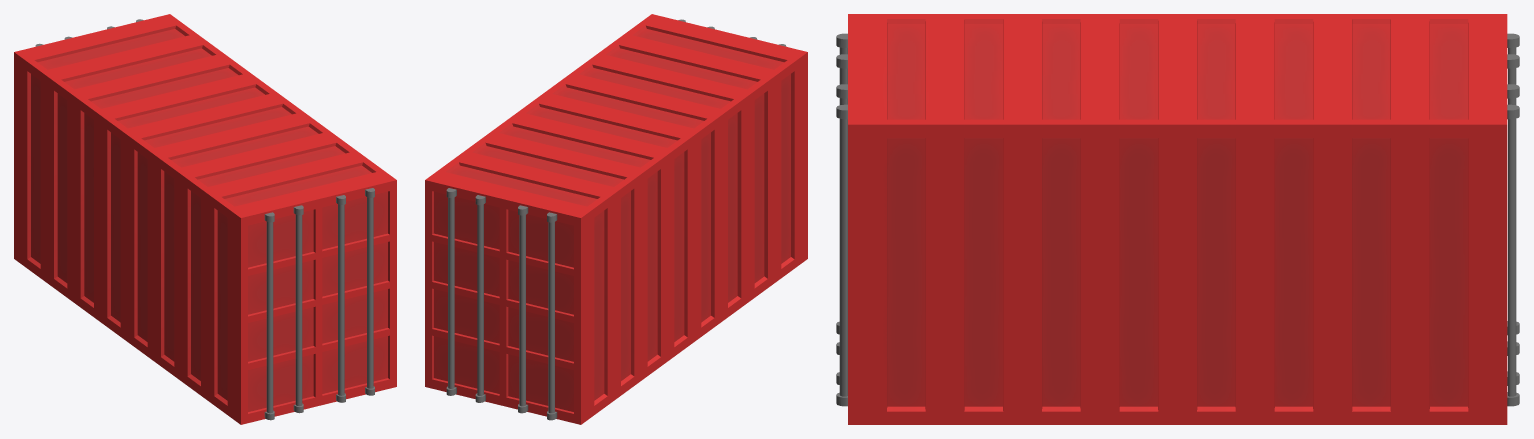
File: 컨테이너.fbx
3 views of the same model, side by side, from view 1: azimuth 30°, elevation 25°; view 2: azimuth 150°, elevation 25°; view 3: azimuth 270°, elevation 25° (orthographic). The views are drawn at different scales.
Visible parts, largest first — view 1: Box051, Cylinder011; view 2: Box051, Cylinder011; view 3: Box051, Cylinder011.
Part boxes in pixels (bbox=[...]): Box051: bbox=[14, 14, 396, 424]; Cylinder011: bbox=[35, 19, 374, 420]; Box051: bbox=[425, 14, 807, 424]; Cylinder011: bbox=[446, 19, 786, 420]; Box051: bbox=[848, 14, 1507, 424]; Cylinder011: bbox=[836, 33, 1519, 406].
Size of the model in its own units: 157 by 410 by 199.
2 materials, 1 textured.
